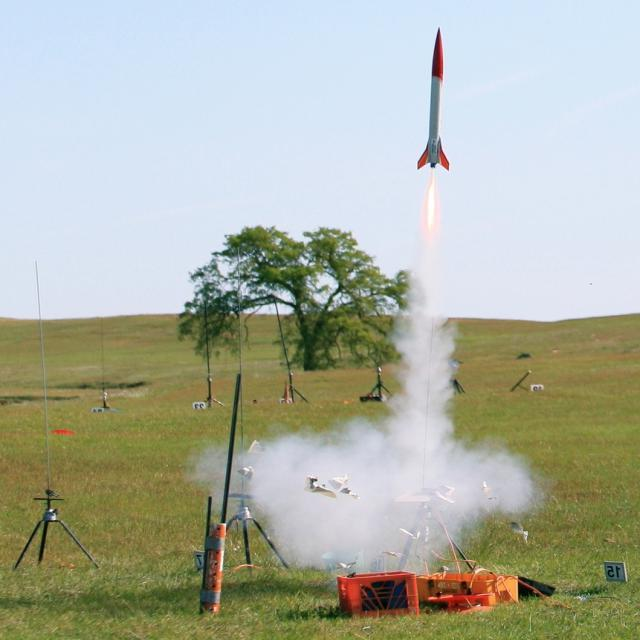missile: (416, 25, 450, 172)
